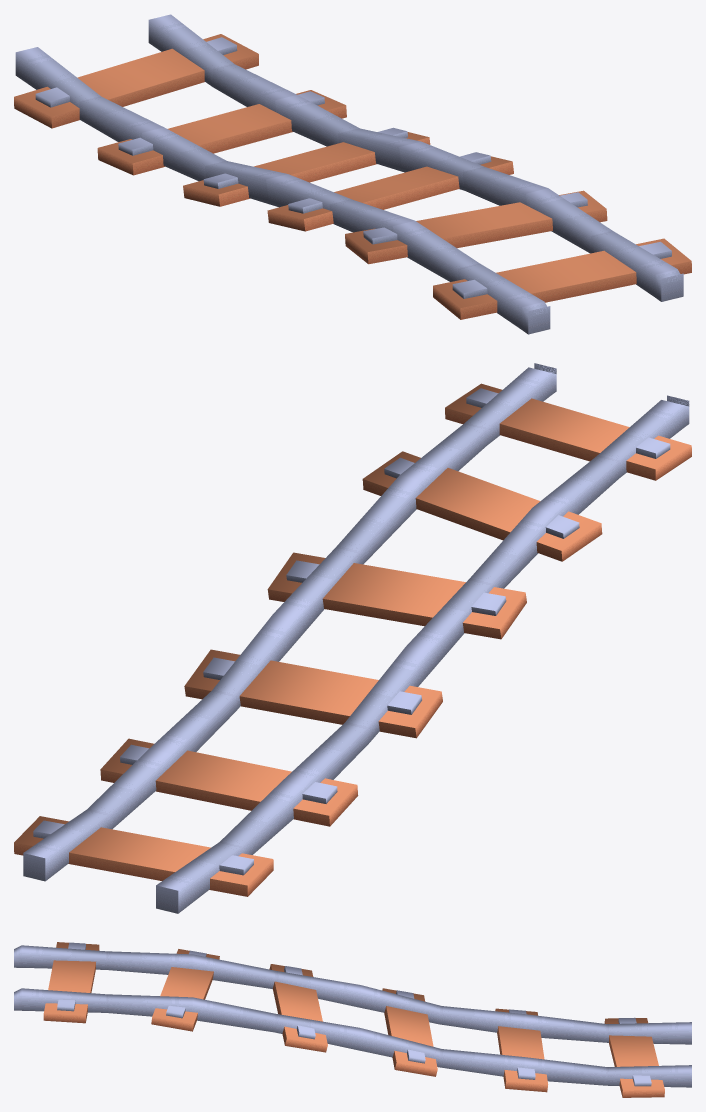
The model's file is railroad-damaged-straight-hill-complete-half.glb.
3 views of the same model, one above another, from view 1: azimuth 30°, elevation 25°; view 2: azimuth 150°, elevation 25°; view 3: azimuth 270°, elevation 25° (orthographic). The views are drawn at different scales.
Visible parts, largest first — view 1: railroad-damaged-straight-hill-complete-half; view 2: railroad-damaged-straight-hill-complete-half; view 3: railroad-damaged-straight-hill-complete-half.
Part boxes in pixels (left/top/right/bottom): railroad-damaged-straight-hill-complete-half: left=14, top=14, right=691, bottom=334; railroad-damaged-straight-hill-complete-half: left=14, top=363, right=691, bottom=913; railroad-damaged-straight-hill-complete-half: left=14, top=942, right=691, bottom=1097.
Bounding box in the file's own units: 1.03 × 0.6005 × 4.
1 material, 1 textured.
